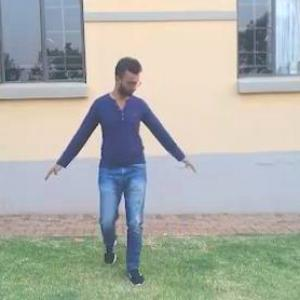land: (43, 43, 222, 273)
